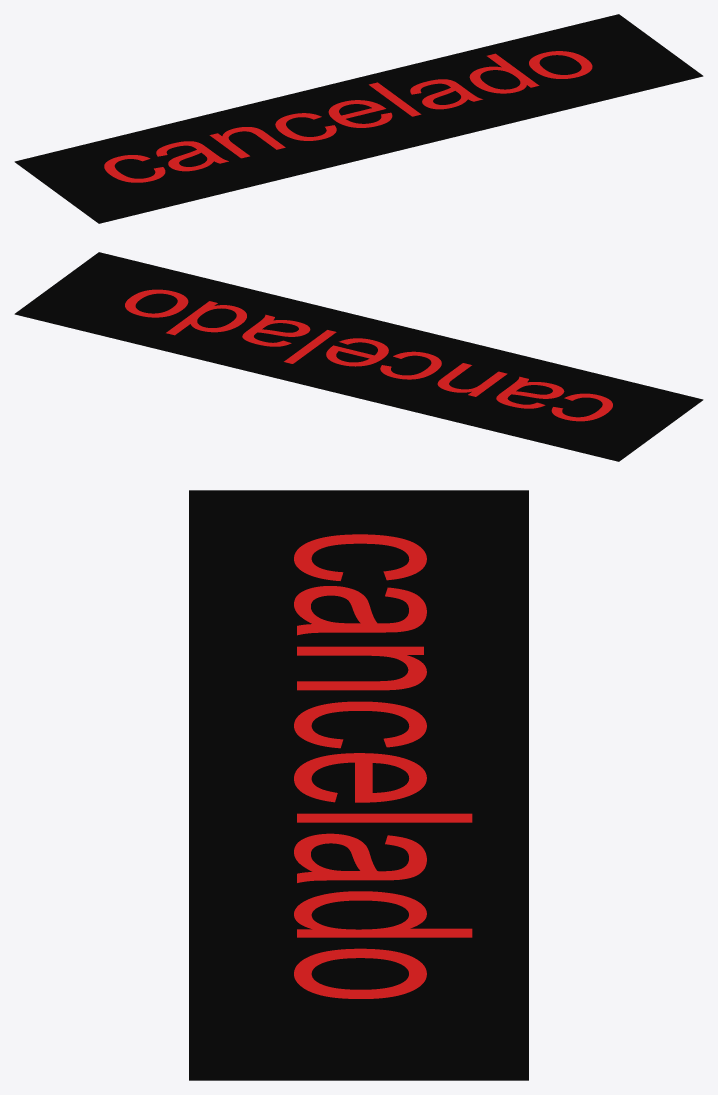
The model's file is cancelado.fbx.
The picture shows the model from 3 angles, top to bottom: view 1: azimuth 30°, elevation 25°; view 2: azimuth 150°, elevation 25°; view 3: azimuth 270°, elevation 25°; orthographic projection. The views are drawn at different scales.
Parts seen in each view (by area): view 1: Plane, cancelado; view 2: Plane, cancelado; view 3: Plane, cancelado.
Part boxes in pixels (<box>): Plane: <box>14,14,703,223</box>; cancelado: <box>104,51,592,182</box>; Plane: <box>14,252,703,461</box>; cancelado: <box>125,289,612,421</box>; Plane: <box>189,490,528,1080</box>; cancelado: <box>294,534,472,998</box>.
Bounding box in the file's own units: 641 × 4.42 × 156.
